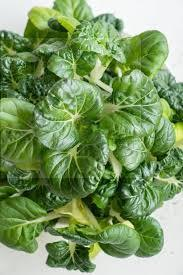Healthy-Pechay: (7, 4, 181, 256)
